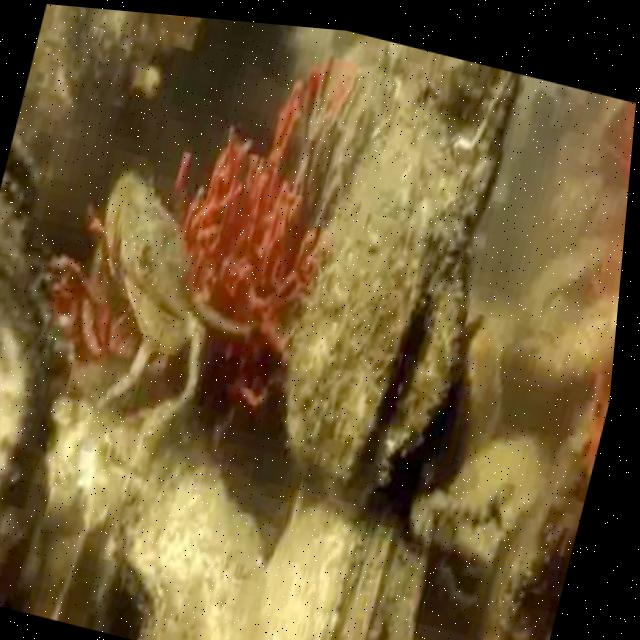Oyster-Indeterminate: (0, 207, 63, 606), (0, 142, 39, 216)
Oyster-Open: (287, 63, 515, 494)
